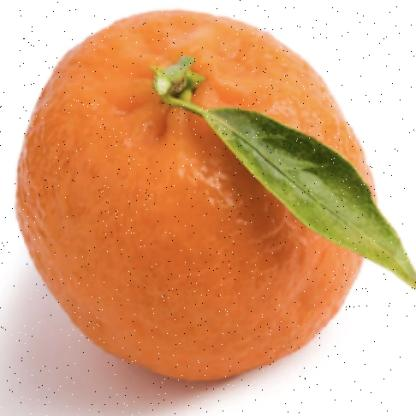fresh: (11, 12, 380, 380)
